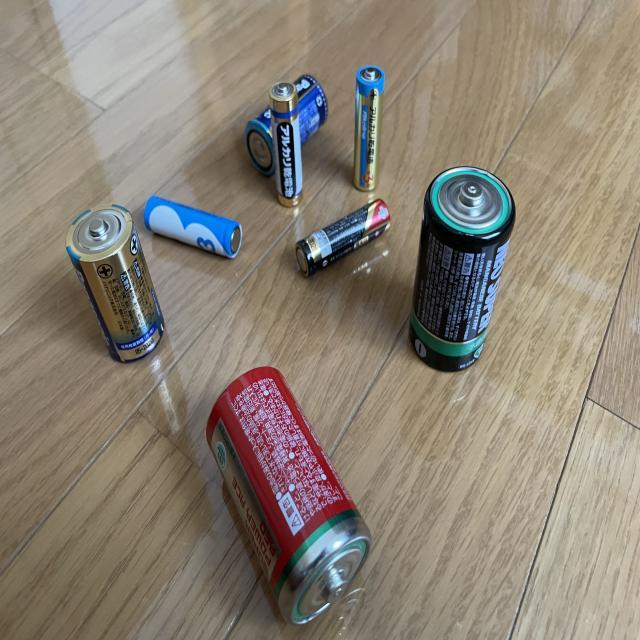hazardous waste: (200, 360, 374, 626), (403, 162, 520, 380), (63, 200, 167, 366), (242, 71, 333, 179), (292, 196, 394, 280), (140, 186, 250, 262), (266, 78, 313, 210), (352, 62, 392, 195)
